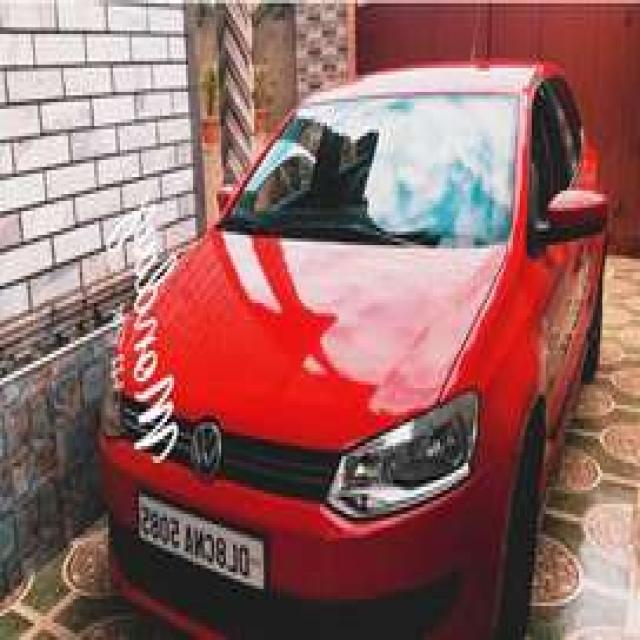license_plate: (131, 484, 269, 606)
